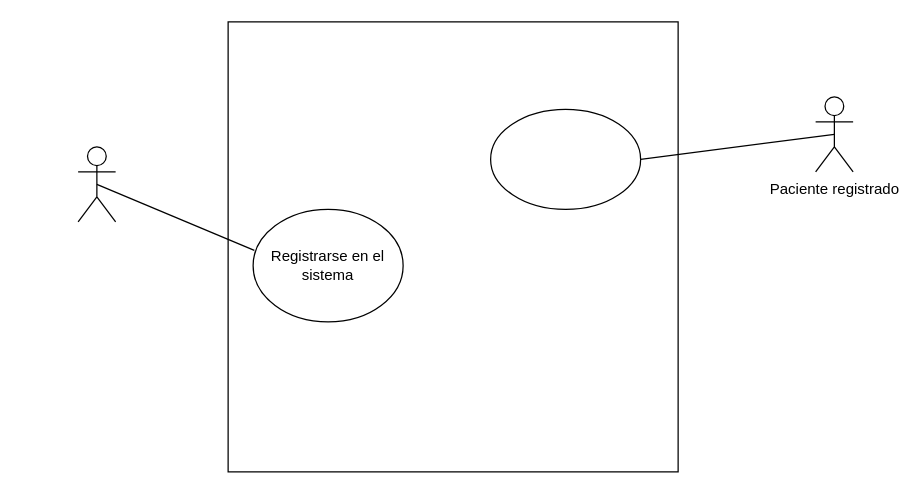
Image size: 920x494. Some labels were removed from this diagram. The centre of each missing label's shape, as x and y in pixels:
"Editar datos personales" goes at pixel 565 158.
"Paciente no registrado" goes at pixel 96 184.
